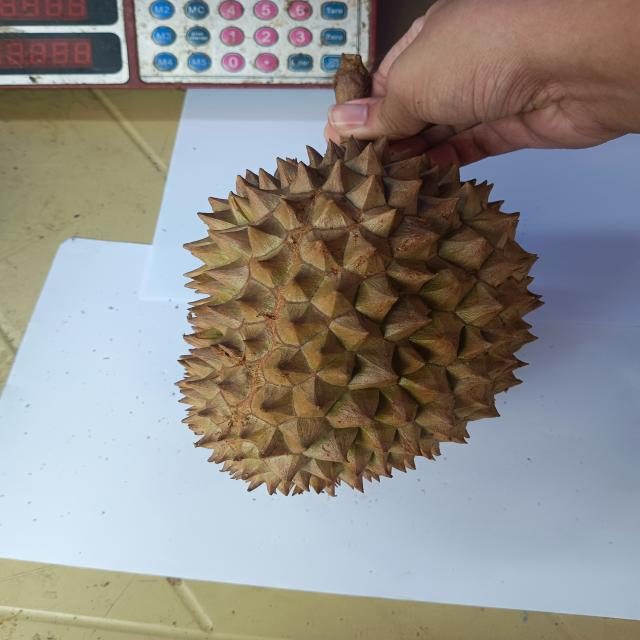mature: (177, 137, 545, 495)
